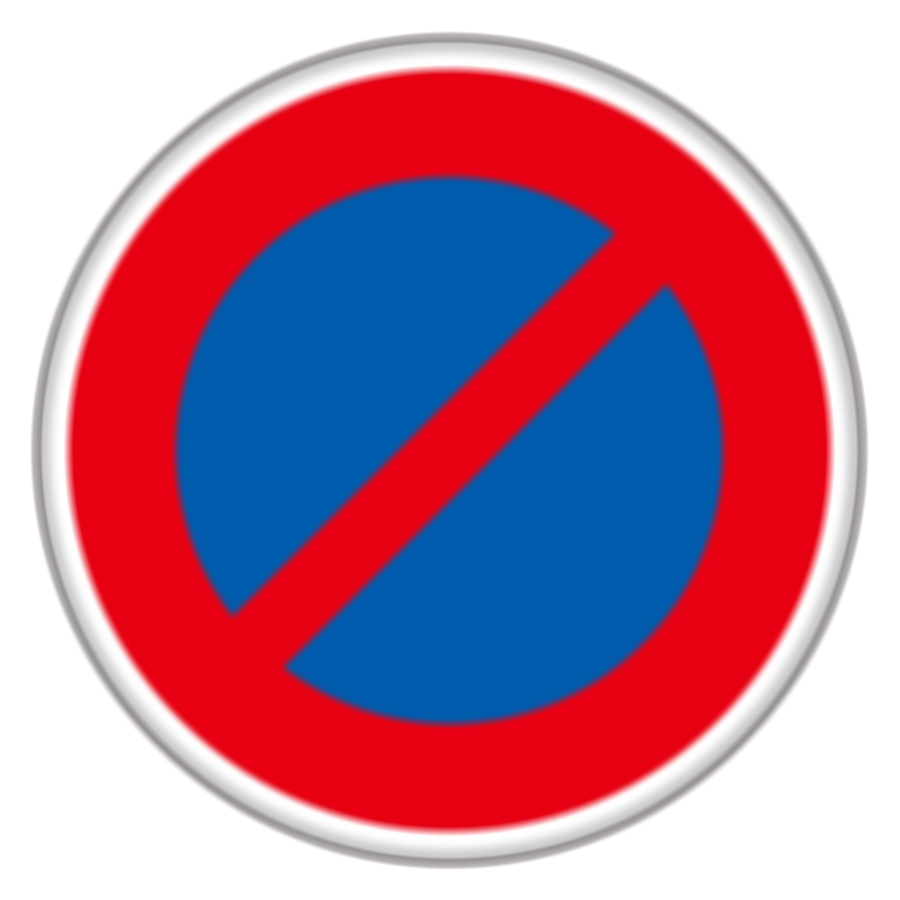Prohibition_sign: (15, 12, 884, 872)
